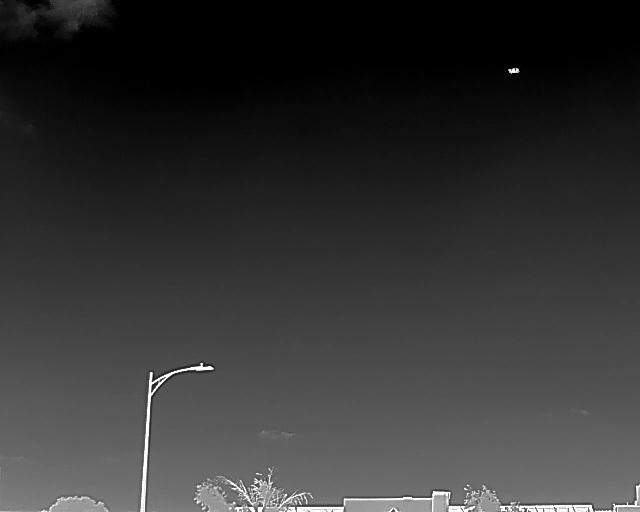fpv-drone: (508, 68, 520, 74)
